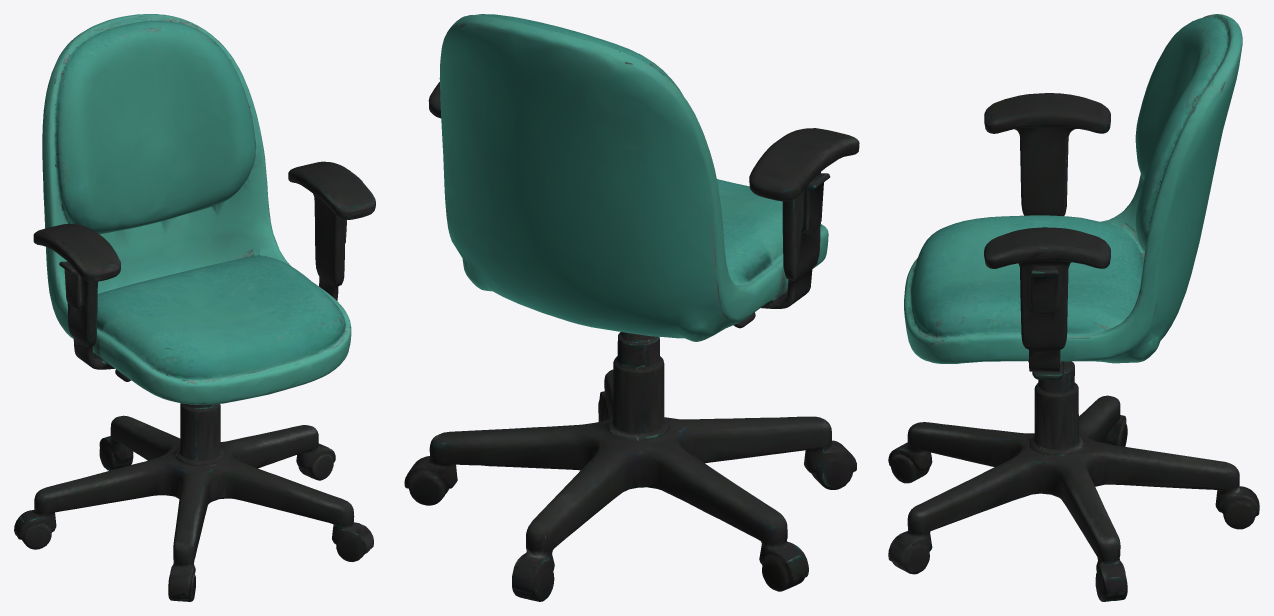
File: chair.glb
3 renders of one model, left to right at view 1: azimuth 30°, elevation 25°; view 2: azimuth 150°, elevation 25°; view 3: azimuth 270°, elevation 25°, orthographic. The views are drawn at different scales.
Parts seen in each view (by area): view 1: Mesh_0; view 2: Mesh_0; view 3: Mesh_0.
Part boxes in pixels (x1,y1,x2,y2): Mesh_0: (14,14,375,601); Mesh_0: (404,14,859,601); Mesh_0: (888,14,1259,601).
Bounding box in the file's own units: 1.39 × 1.9 × 1.3.
1 material, 1 textured.
